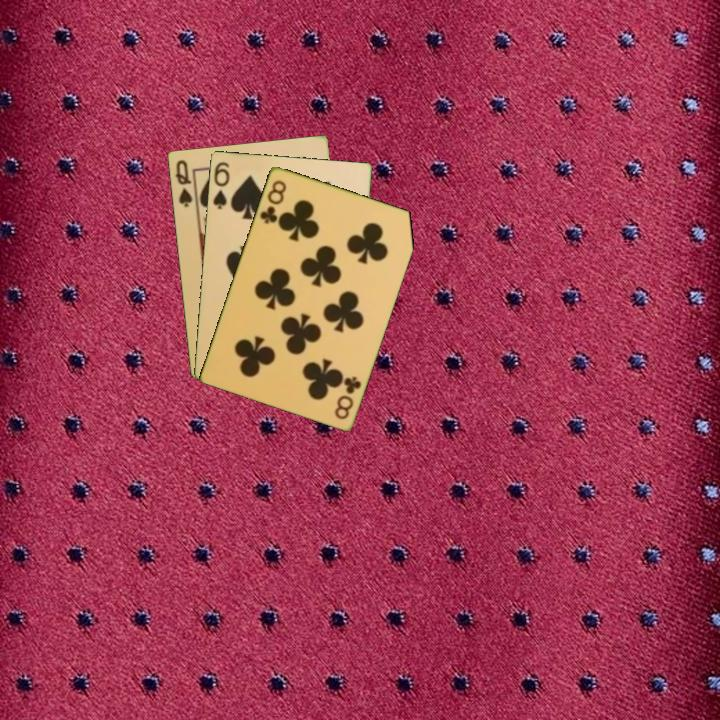6s: (209, 158, 232, 212)
8c: (256, 176, 289, 226), (331, 372, 364, 422)
Qs: (171, 156, 195, 210)
